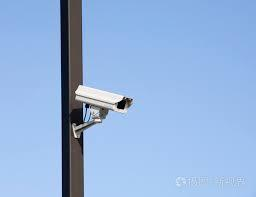tutu: (73, 84, 141, 123)
